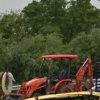Tractor: (19, 51, 100, 99)
